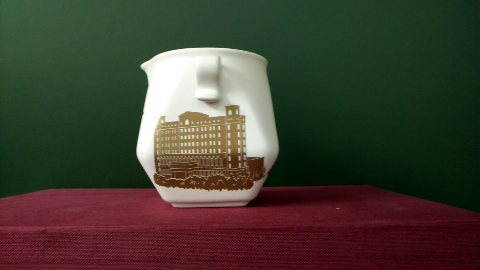law: (155, 122, 252, 187)
